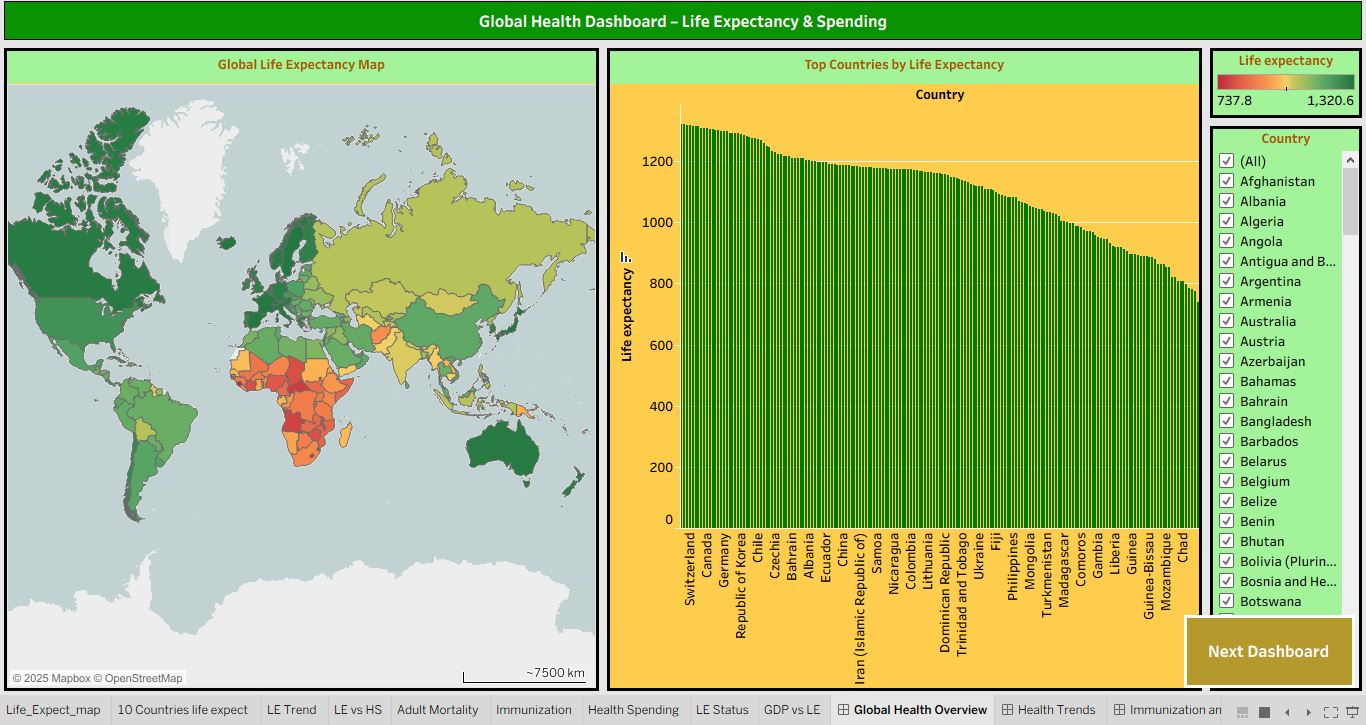

This screenshot's page, from the dashboard's own definition file:
{"tool":"tableau","page":{"name":"Global Health Overview","canvas":[1000,1000],"units":"permille","ordinal":0},"visuals":[{"type":"text","box":[0,0,1000,67]},{"type":"worksheet","title":"Life_Expect_map","mark":"Automatic","box":[0,67,430.7,933]},{"type":"worksheet","title":"10 Countries life expect","mark":"Bar","rows":["Life expectancy "],"cols":["Country"],"box":[430.7,67,430.8,933]},{"type":"legend","title":"Life_Expect_map","param":"[federated.0gwjj4a1etb9691c4ut6100xn9h3].[sum:Life expectancy :qk]","box":[861.5,67,138.5,141.3]},{"type":"filter","title":"10 Countries life expect","param":"[federated.0gwjj4a1etb9691c4ut6100xn9h3].[none:Country:nk]","box":[861.5,208.3,138.5,791.7]},{"type":"dashboard-object","box":[866.7,885.9,125.5,105.1]}]}

Visuals, with their boxes on the dashboard's canvas, which has no fixed pixel size, in thousandths of its width and height (x1, y1, x2, y2). These are canvas units, not pixel positions in the 1366x725 screenshot, which may show the page scaled, cropped or inside an application window:
text: (x1=0, y1=0, x2=1000, y2=67)
"Life_Expect_map" worksheet: (x1=0, y1=67, x2=431, y2=1000)
"10 Countries life expect" worksheet (Bar marks): (x1=431, y1=67, x2=862, y2=1000)
"Life_Expect_map" legend: (x1=862, y1=67, x2=1000, y2=208)
"10 Countries life expect" filter: (x1=862, y1=208, x2=1000, y2=1000)
dashboard-object: (x1=867, y1=886, x2=992, y2=991)
